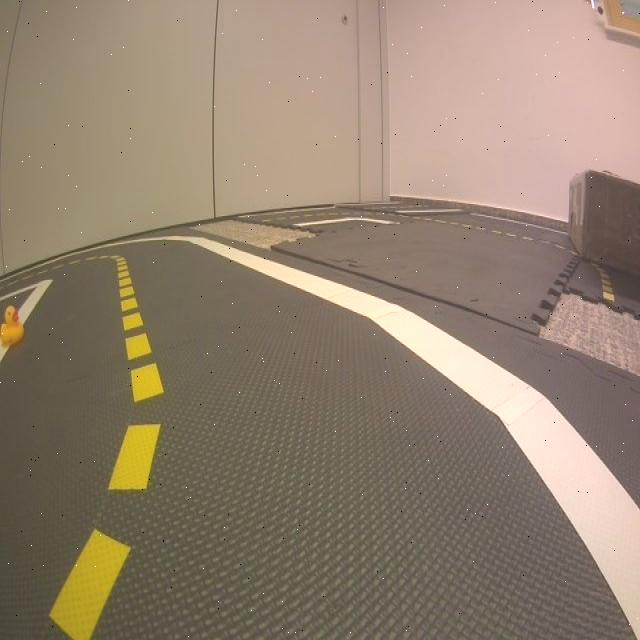duckie: (0, 302, 26, 348)
